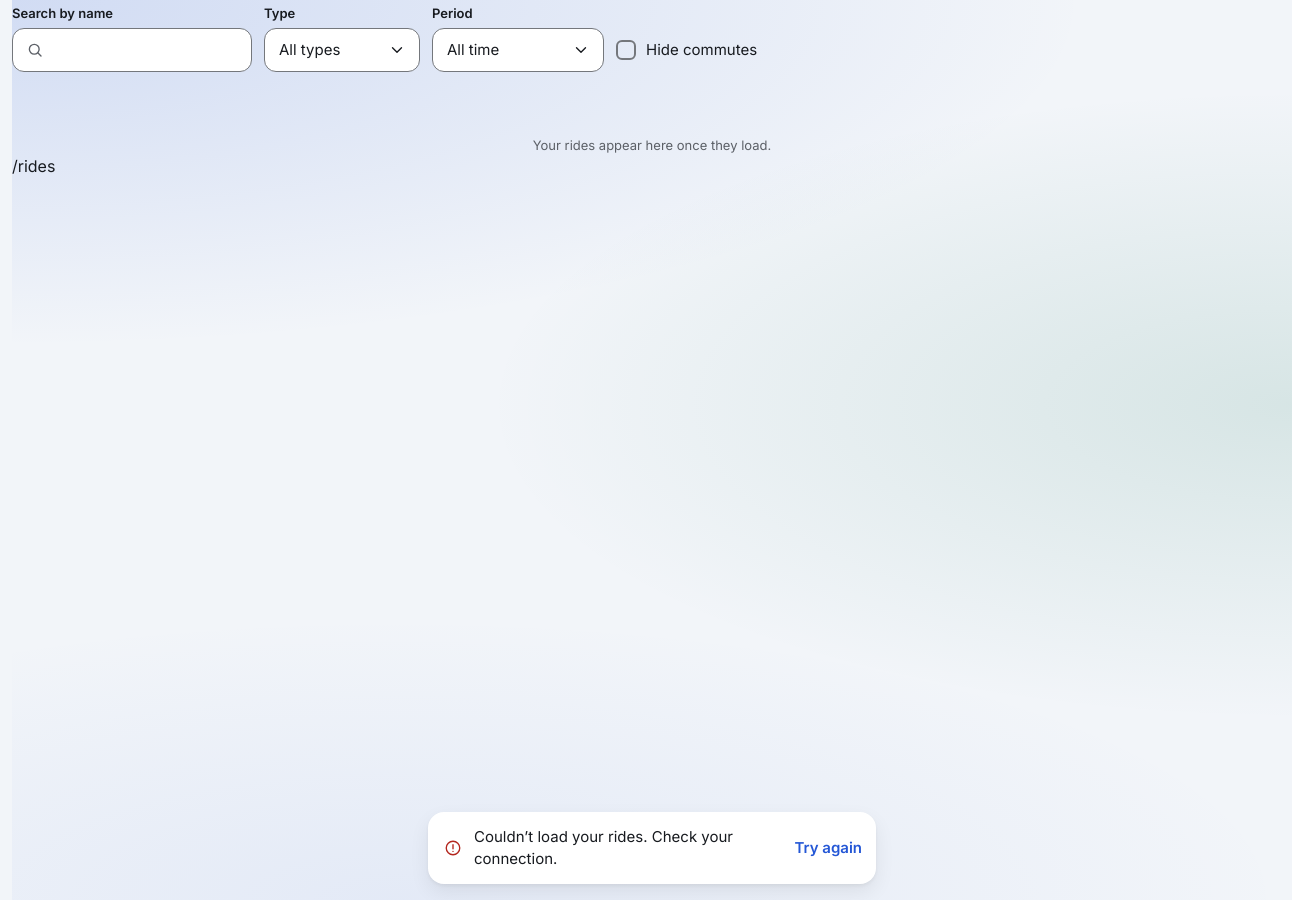
Test: RidesPage on the phone › shows an error card with Try again
The width and height of the screenshot is (1292, 900).
Expected: the message shows "Couldn’t load your rides. Check your connection.", [474,827,733,868]
Expected: the text "Your rides appear here once they load." is shown, [533,137,771,153]
Click the button "Try again" at (828, 848), box [786,826,870,870]
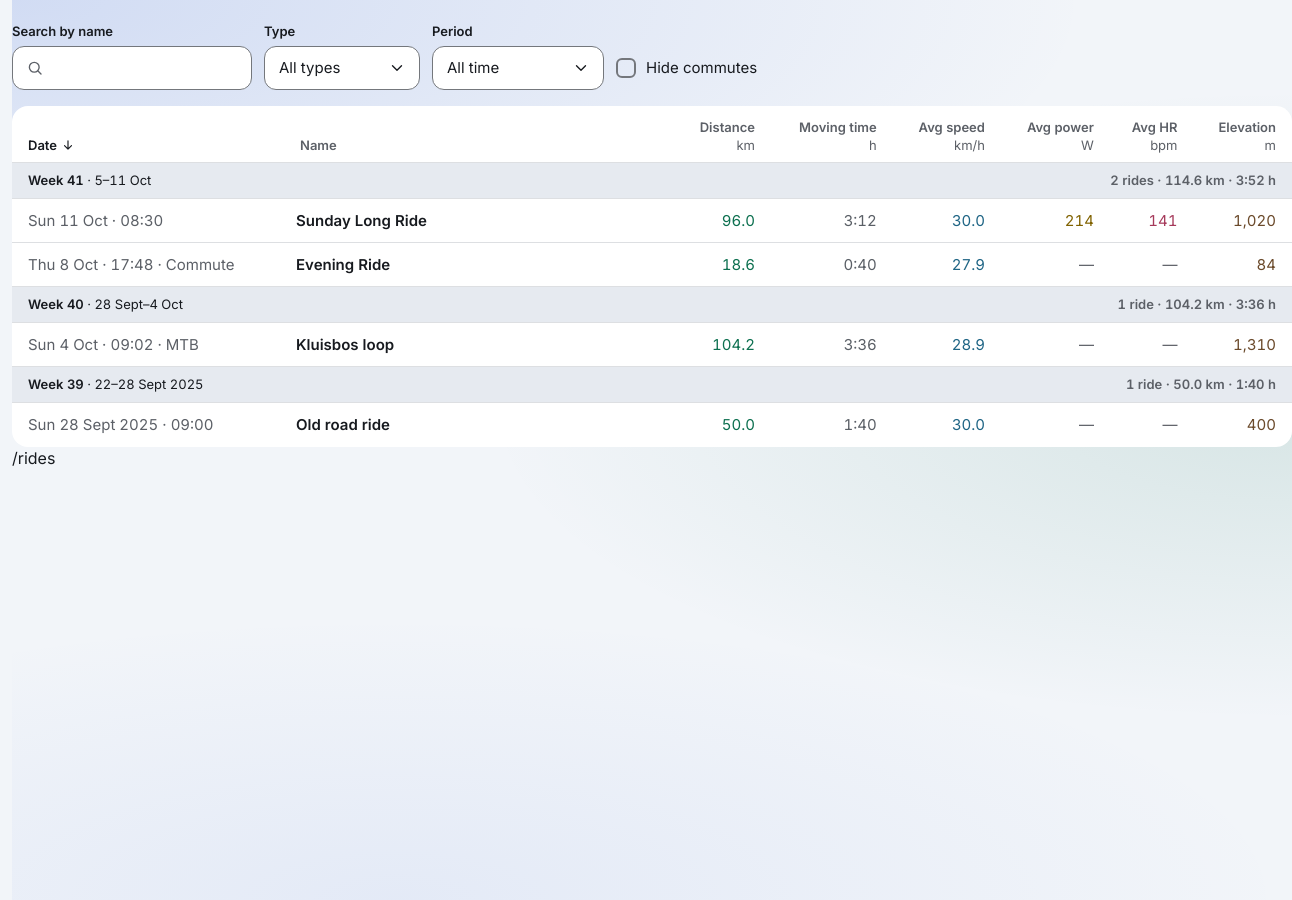
Result: the link "Sunday Long Ride" is shown at [296,211,427,230]
Result: the message "Couldn’t load your rides. Check your connection. Try again" is gone
